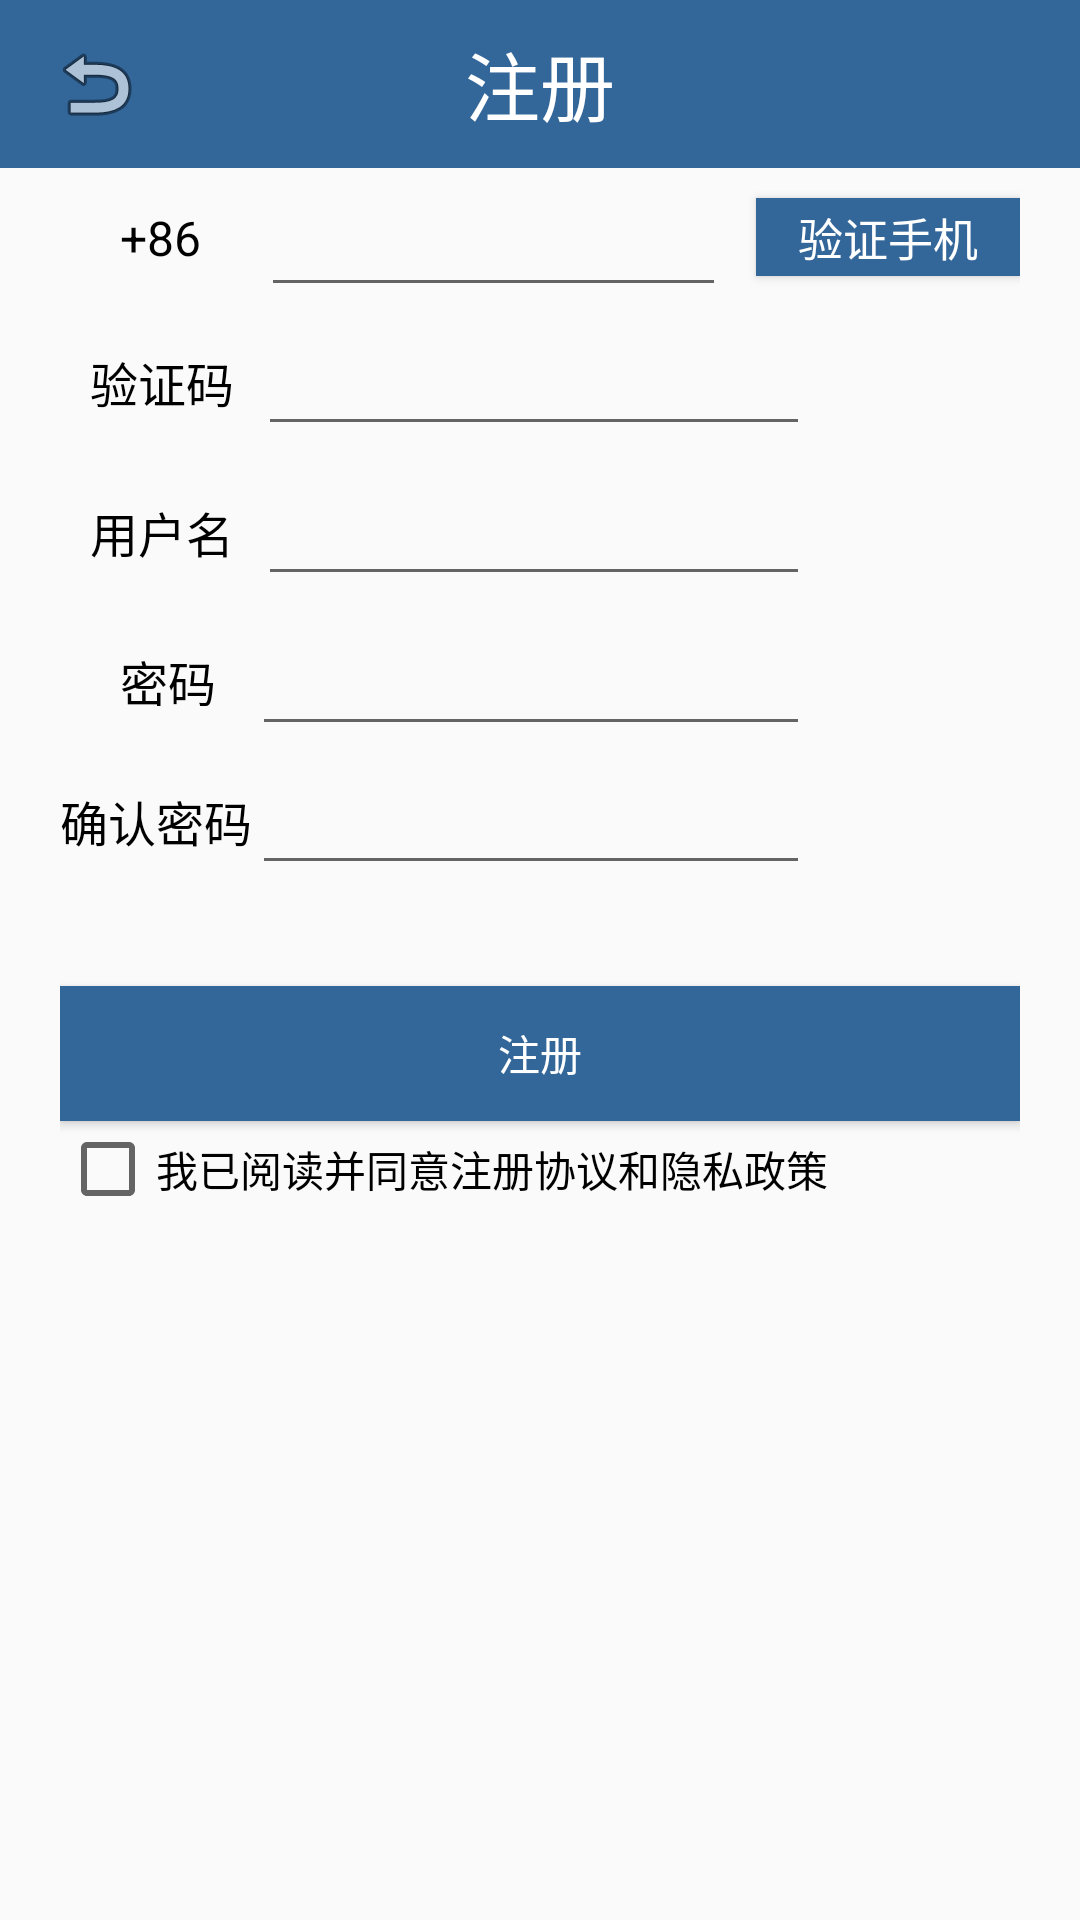

Locate icon controls on the screen. Image size 1080*1920, boxes as Rect(x1, y1, x2, y2).
revert: Rect(63, 54, 132, 116)
